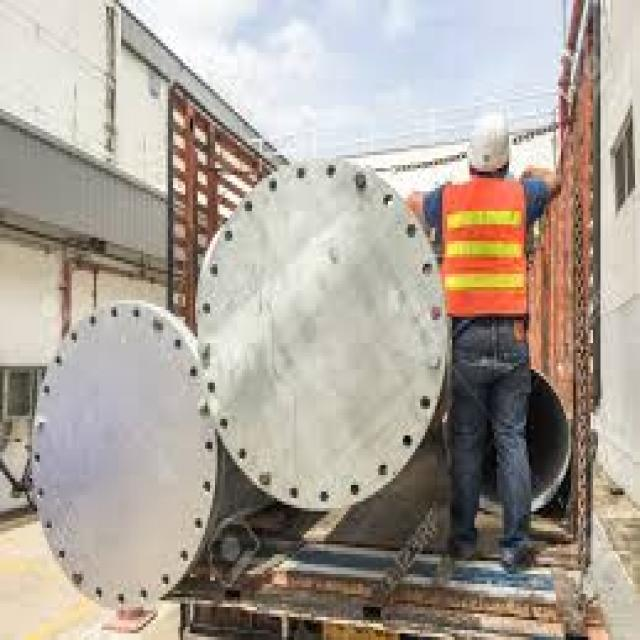Reflective-Jacket: (420, 175, 541, 336)
Safety-Helmet: (455, 89, 521, 178)
